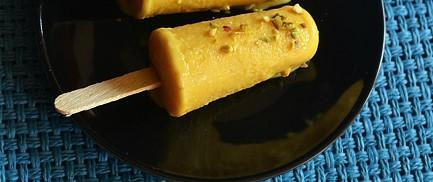Kulfi: (149, 3, 320, 117), (121, 0, 290, 19)
